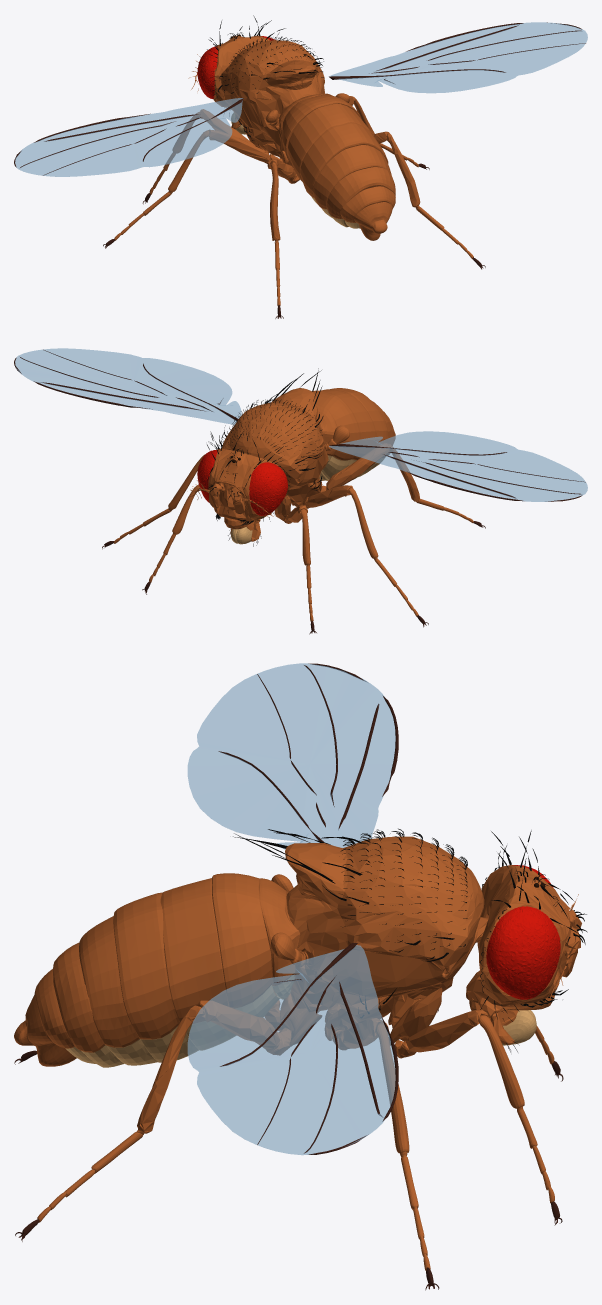
File: fruitfly.glb
3 renders of one model, top to bottom at view 1: azimuth 30°, elevation 25°; view 2: azimuth 150°, elevation 25°; view 3: azimuth 270°, elevation 25°, orthographic. The views are drawn at different scales.
Visible parts, largest first — view 1: body, membrane, brown, black, red; view 2: body, membrane, brown, red, black, lower; view 3: body, membrane, red, brown, lower, black.
Boxes of the visible parts, x1,y1,x2,y2 form: body: [114, 35, 473, 305]; membrane: [15, 22, 587, 176]; brown: [14, 22, 585, 318]; black: [207, 15, 323, 140]; red: [197, 36, 274, 98]; body: [114, 388, 473, 621]; membrane: [15, 348, 587, 501]; brown: [14, 349, 585, 634]; red: [197, 450, 287, 515]; black: [207, 368, 323, 525]; lower: [231, 455, 384, 544]; body: [14, 836, 581, 1270]; membrane: [187, 663, 395, 1155]; red: [486, 865, 560, 999]; brown: [14, 663, 563, 1290]; lower: [65, 975, 536, 1067]; black: [233, 828, 587, 1021].
Size of the model in its own units: 0.00611 by 0.00184 by 0.00301.
